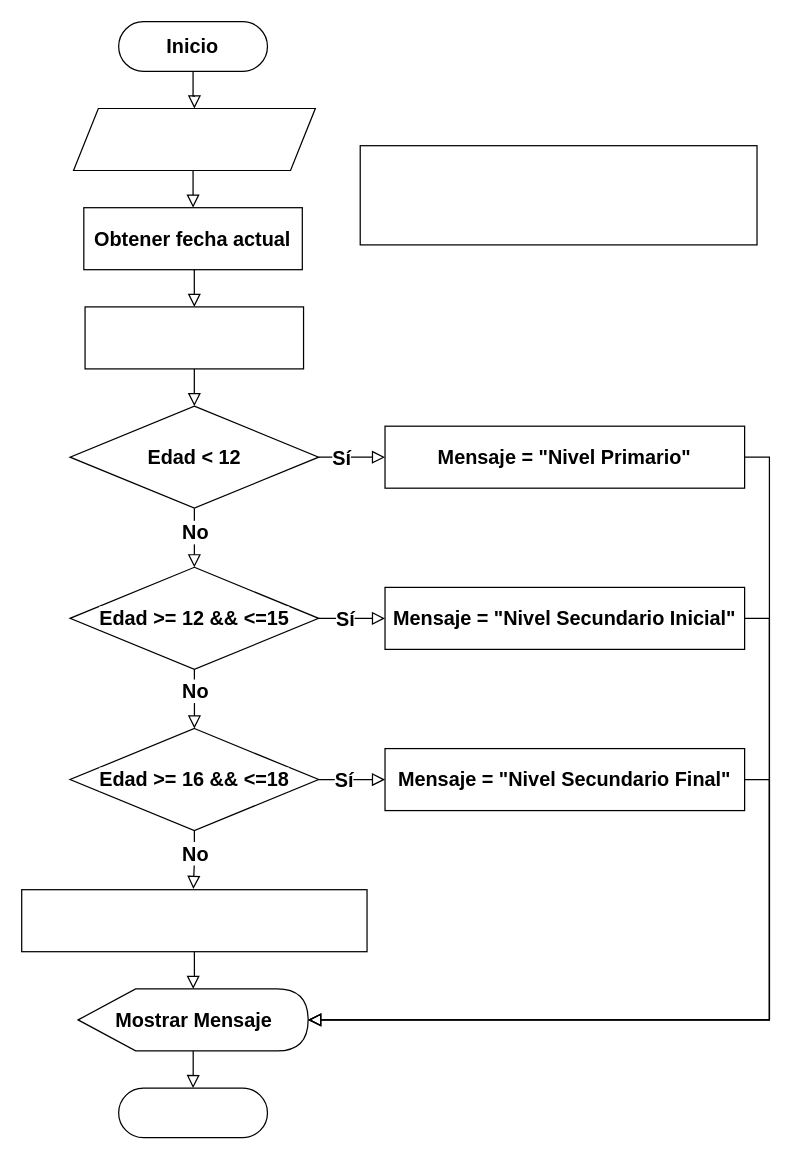
Image size: 804x1159. Some labels were removed from this diagram. Each missing label, with the centre of its shape:
Calcular Edad: pixel 194 337
Diagrama de Flujo: Simulador de Edad Escolar: pixel 558 194
Fin: pixel 192 1112
Mensaje = "Edad fuera de rango": pixel 193 920
Obtener fecha de nacimiento: pixel 193 138
